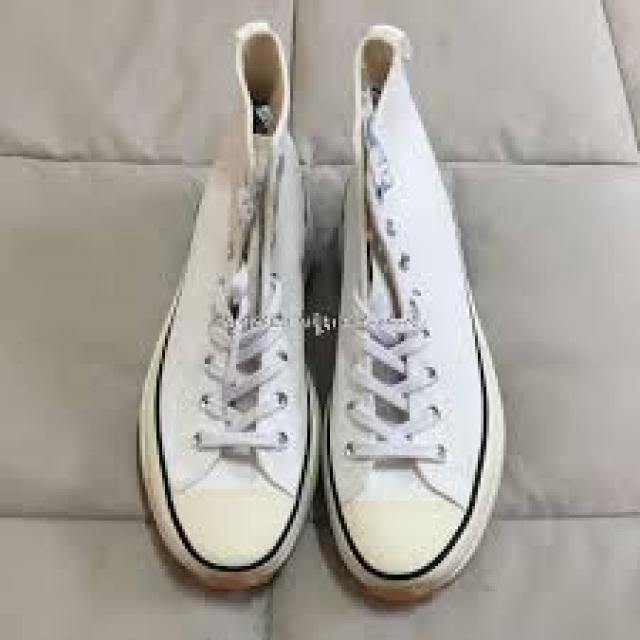shoe: (319, 26, 506, 606), (137, 20, 316, 594)
